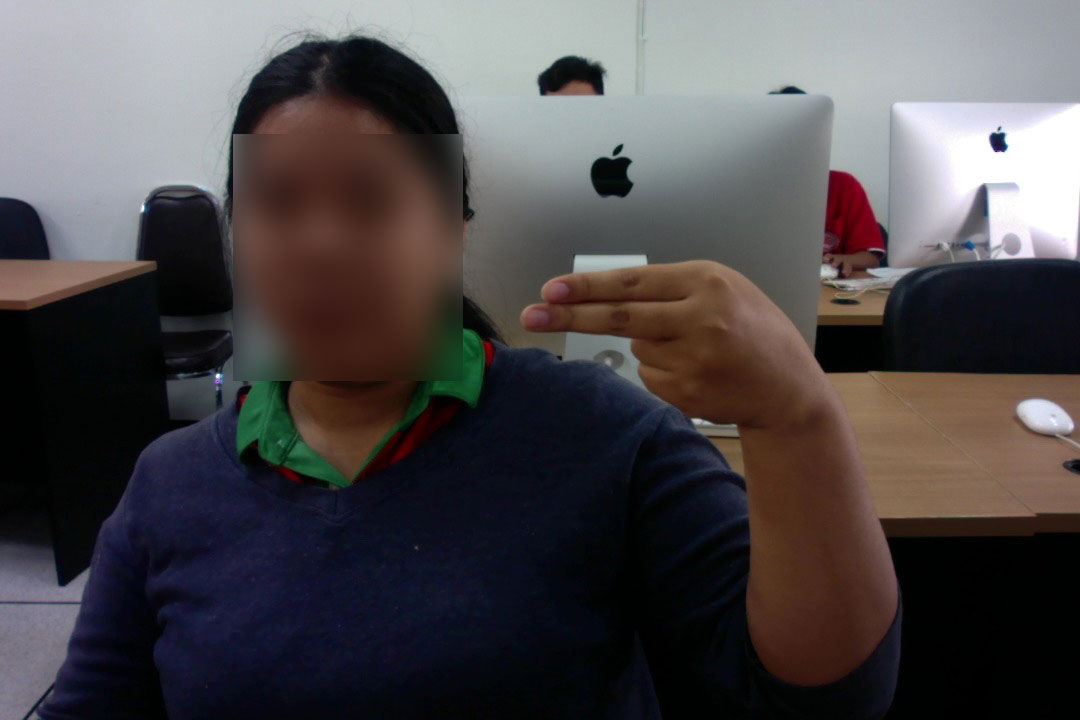hor: (512, 255, 847, 429)
